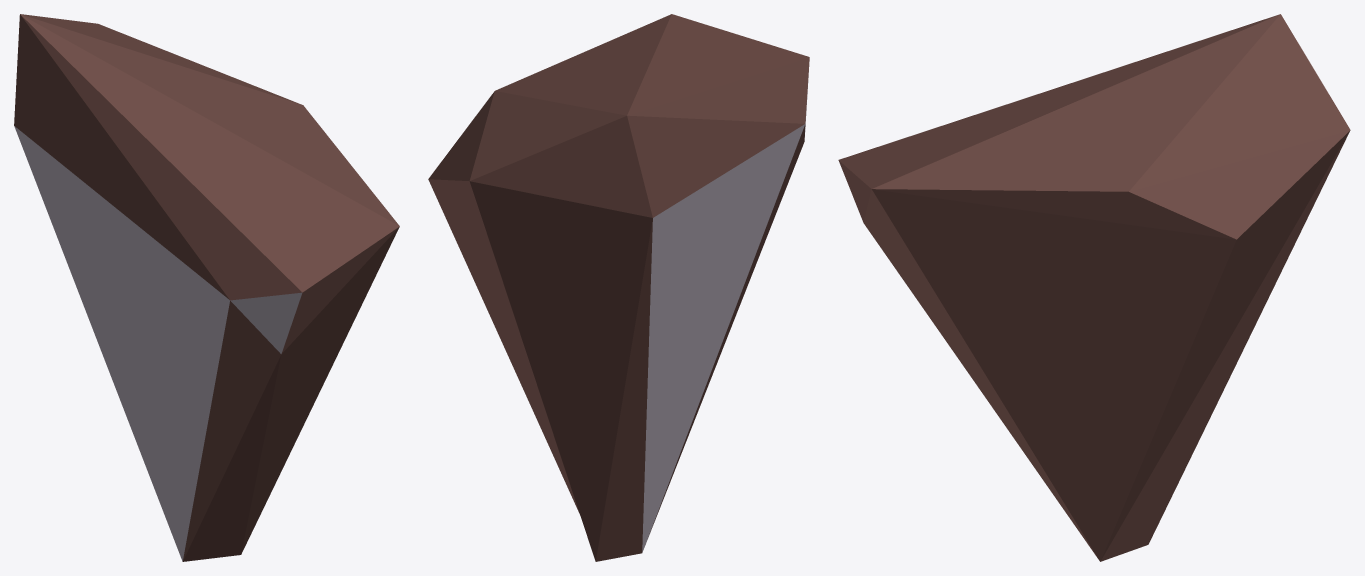
File: CommonTree_Dead_Snow_1.lod4.glb
The picture shows the model from 3 angles, left to right: view 1: azimuth 30°, elevation 25°; view 2: azimuth 150°, elevation 25°; view 3: azimuth 270°, elevation 25°; orthographic projection. The views are drawn at different scales.
Visible parts, largest first — view 1: CommonTree_Dead_Snow_1; view 2: CommonTree_Dead_Snow_1; view 3: CommonTree_Dead_Snow_1.
Boxes of the visible parts, x1=… form: CommonTree_Dead_Snow_1: x1=14, y1=14, x2=399, y2=561; CommonTree_Dead_Snow_1: x1=428, y1=14, x2=809, y2=561; CommonTree_Dead_Snow_1: x1=838, y1=14, x2=1350, y2=561.
Size of the model in its own units: 1.06 by 2.23 by 2.13.
